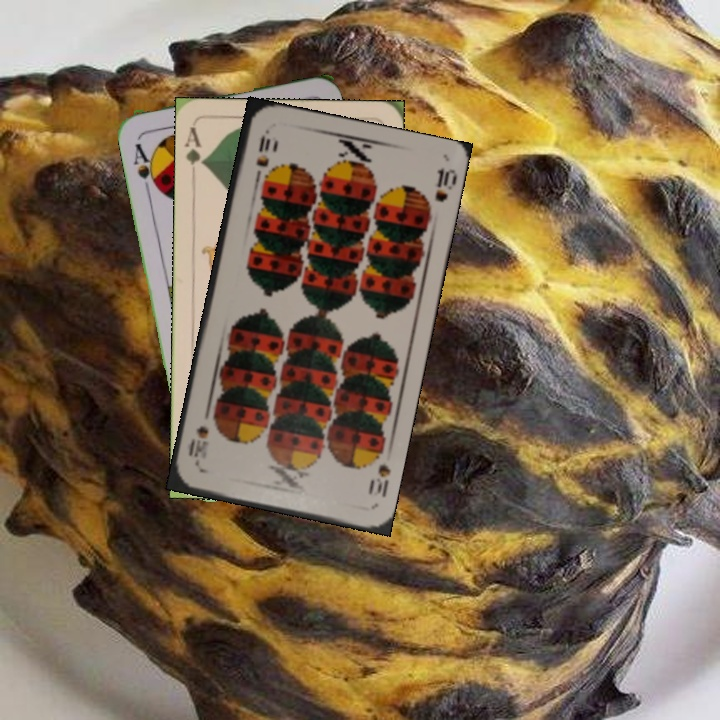GA: (181, 123, 209, 169)
S10: (251, 126, 273, 185), (364, 459, 394, 500)
SA: (129, 139, 161, 193)
